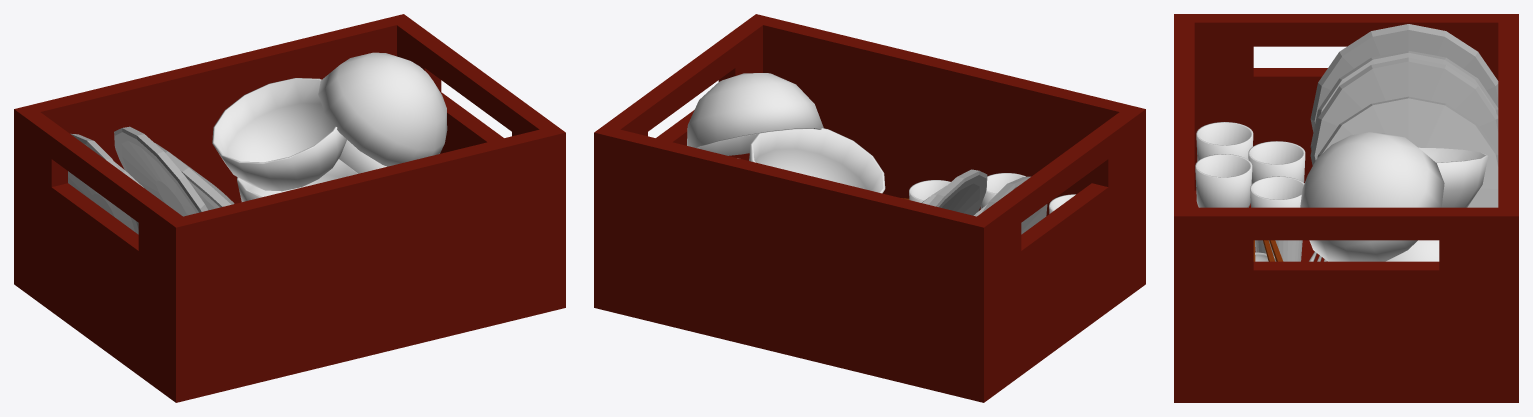
Rendered from Basekt.fbx.
3 views of the same model, side by side, from view 1: azimuth 30°, elevation 25°; view 2: azimuth 150°, elevation 25°; view 3: azimuth 270°, elevation 25° (orthographic). The views are drawn at different scales.
Visible parts, largest first — view 1: Basket, Bowl3, Bowl4, Dish4, Dish1, Dish2, Bowl1, Bowl2; view 2: Basket, Bowl4, Bowl3, Dish4, Dish1, Glass2, Glass3; view 3: Basket, Bowl4, Dish4, Dish2, Dish1, Glass2, Bowl3, Glass3, Glass1, Glass4, Dish3, Bowl2 (+1 smaller).
Part boxes in pixels (<box>): Basket: <box>14,14,565,402</box>; Bowl3: <box>212,78,346,191</box>; Bowl4: <box>318,52,447,166</box>; Dish4: <box>114,126,207,216</box>; Dish1: <box>68,133,138,234</box>; Dish2: <box>154,142,234,210</box>; Bowl1: <box>237,159,357,201</box>; Bowl2: <box>339,140,386,173</box>; Basket: <box>594,14,1145,402</box>; Bowl4: <box>687,73,823,155</box>; Bowl3: <box>749,128,885,193</box>; Dish4: <box>928,169,987,215</box>; Dish1: <box>982,176,1047,234</box>; Glass2: <box>980,173,1026,209</box>; Glass3: <box>909,180,950,202</box>; Basket: <box>1174,14,1518,402</box>; Bowl4: <box>1300,132,1444,261</box>; Dish4: <box>1310,57,1498,165</box>; Dish2: <box>1317,96,1498,207</box>; Dish1: <box>1310,24,1498,131</box>; Glass2: <box>1195,154,1252,207</box>; Bowl3: <box>1418,147,1488,207</box>; Glass3: <box>1250,176,1304,261</box>; Glass1: <box>1248,141,1305,183</box>; Glass4: <box>1196,122,1253,161</box>; Dish3: <box>1310,51,1498,150</box>; Bowl2: <box>1386,240,1439,261</box>.
Bounding box in the file's own units: 176 × 87 × 127.
